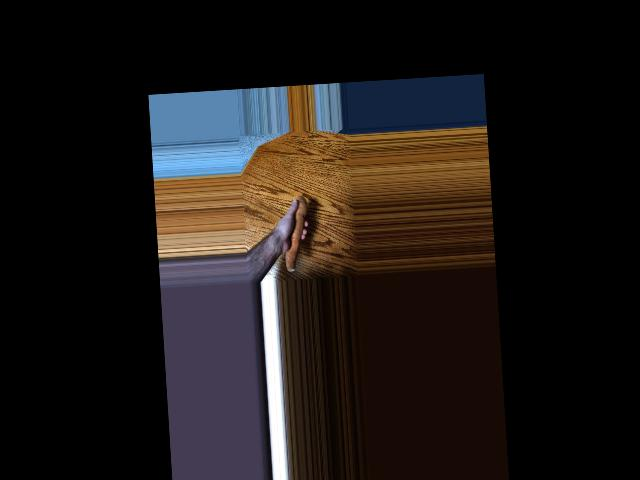sweet_potato: (280, 196, 311, 272)
